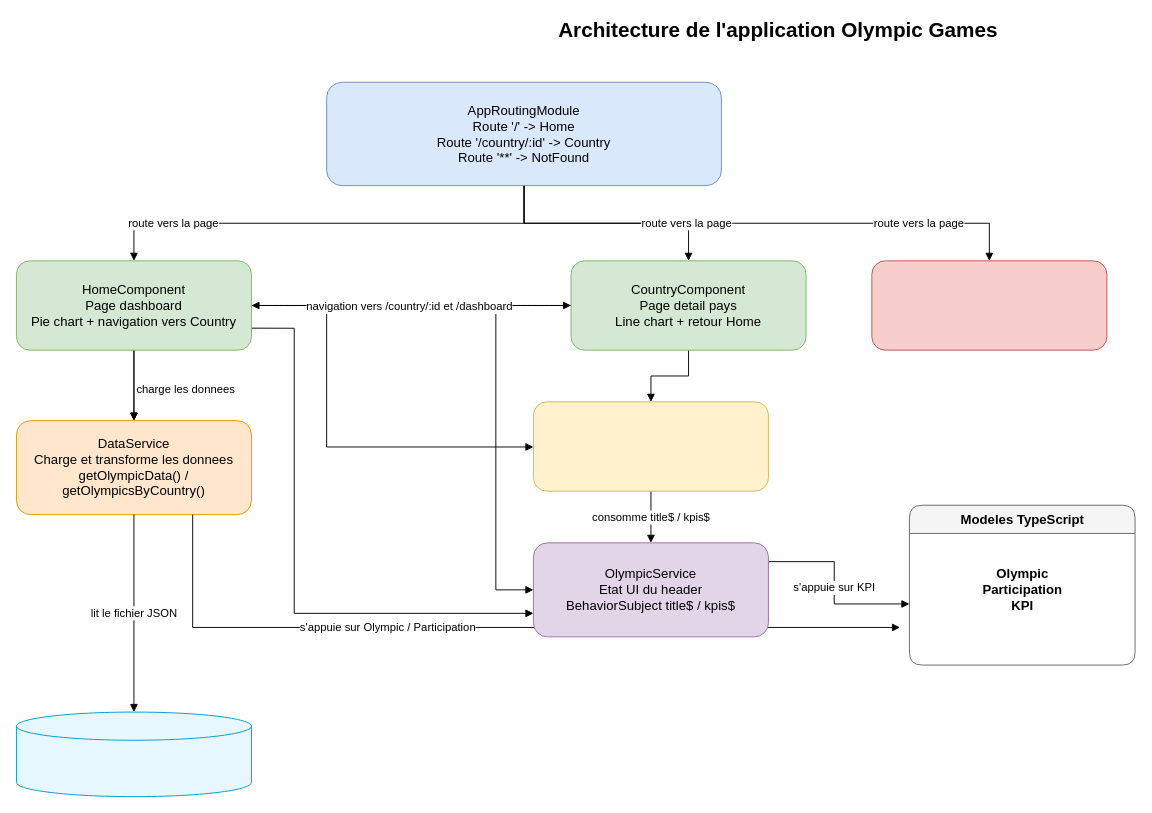
The diagram is 1152 pixels wide and 813 high, and some of its shapes have lost their labels. Each missing label, with the centre of its shape:
HeaderComponent Composant partage Affiche titre + KPIs: point 650,446
NotFoundComponent Page 404: point 989,305
olympic.json Source de donnees locale: point 133,754
